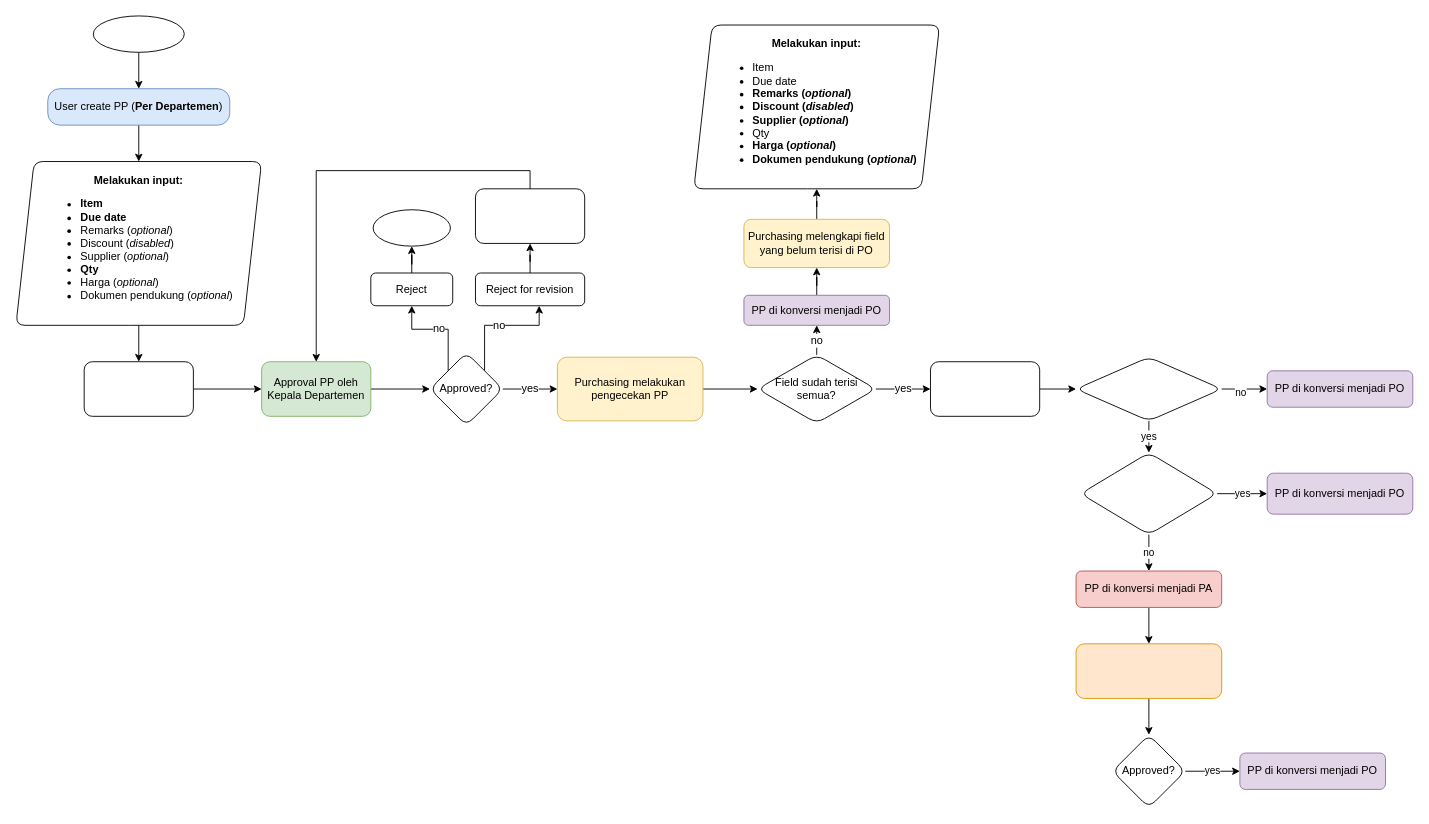
The diagram is 1429 pixels wide and 824 high, and some of its shapes have lost their labels. The centre of each missing label's shape, as x and y in pixels:
Approval Price oleh Price Approval: (1148,670)
end: (411,227)
Item sering dibeli? (repetitive order): (1148,493)
PP akan dilakukan pengecekan total harga: (985,388)
PP berhasil dibuat oleh User: (138,388)
start: (138,33)
Total price >= 20 juta?: (1148,388)
User dapat melakukan edit PP sesuai revisi: (530,215)
